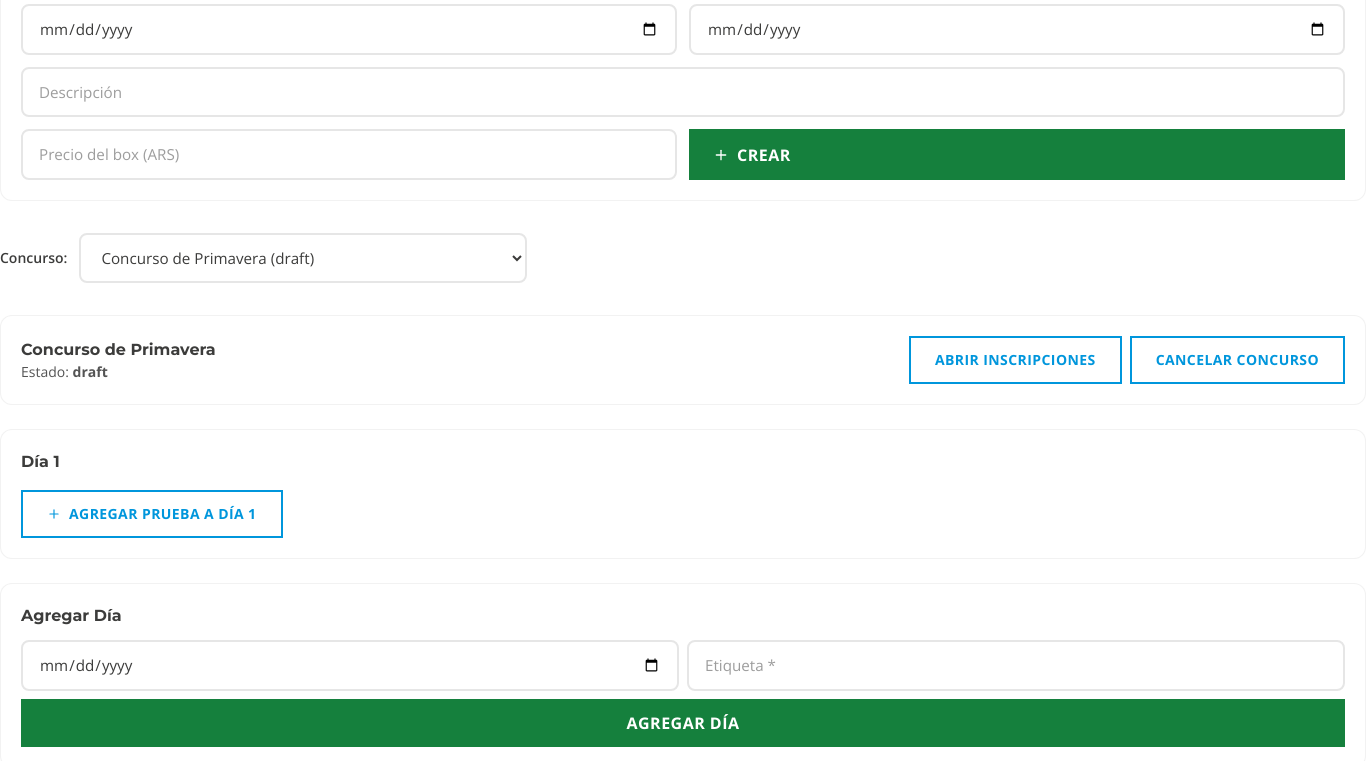
Test: AnteprogramaTab › adds a day to the anteprograma
(page scrolled)
Expected: the heading "Día 1" is shown, x1=21 y1=452 x2=60 y2=471
Type "2026-09-06" into the 3rd date field at [350, 666], box x1=21 y1=640 x2=679 y2=691
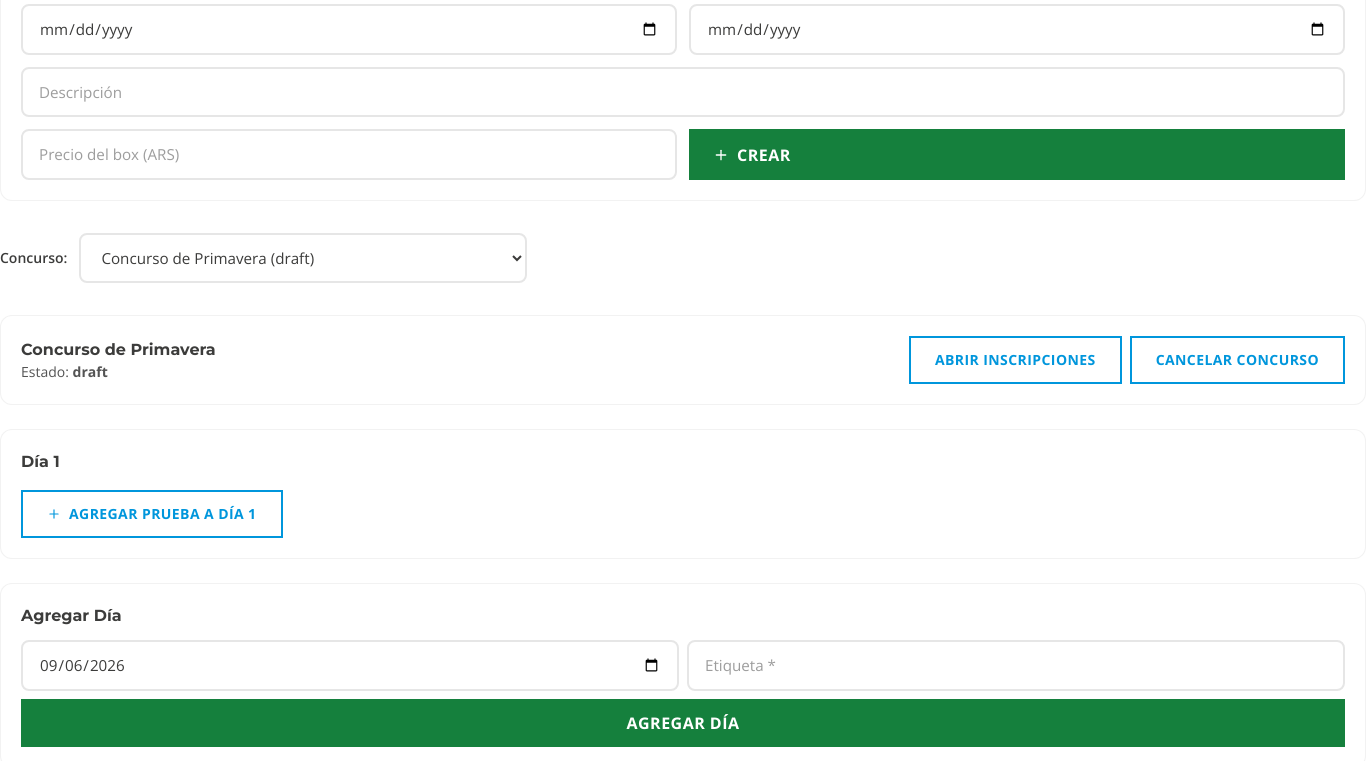
Type "Día 2" into the field with placeholder "Etiqueta *" at [1016, 666], box x1=687 y1=640 x2=1345 y2=691
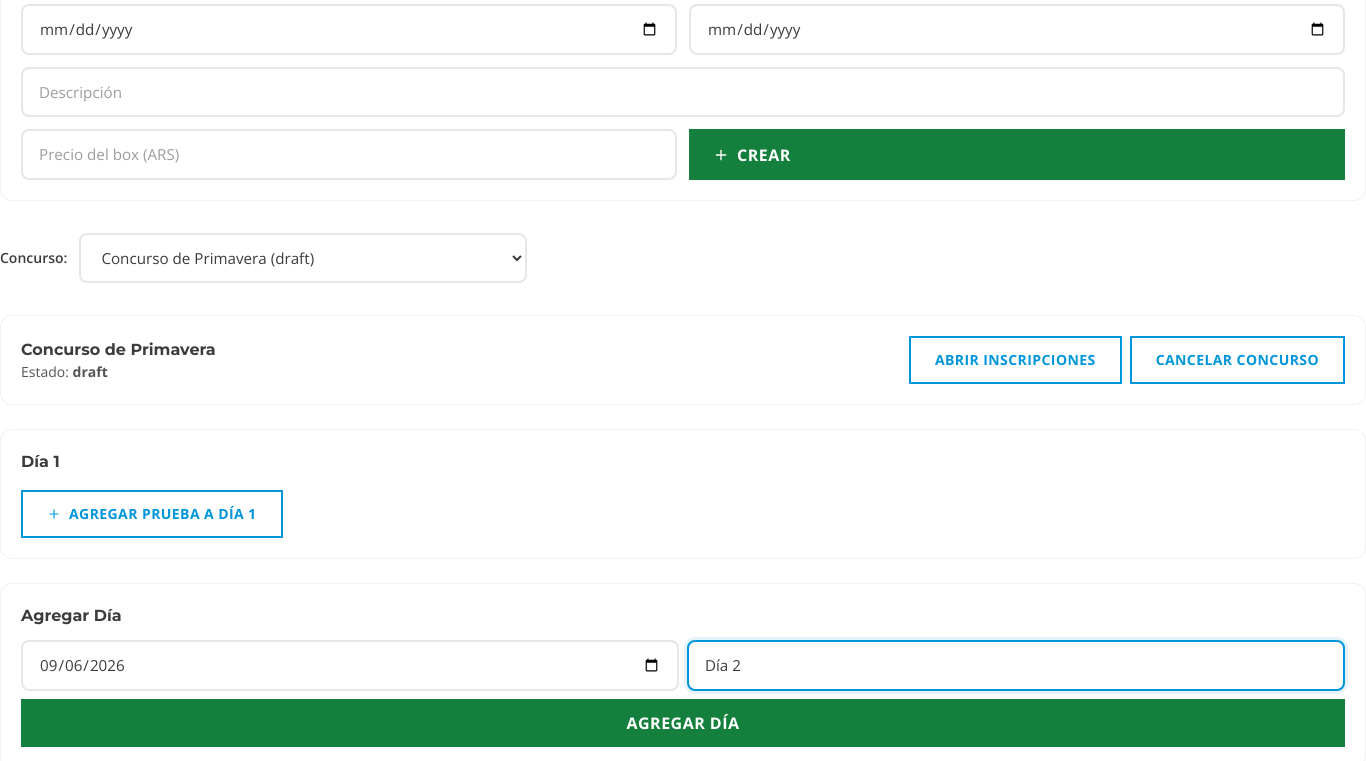
Click the button "Agregar Día" at [683, 723], box x1=21 y1=699 x2=1345 y2=747
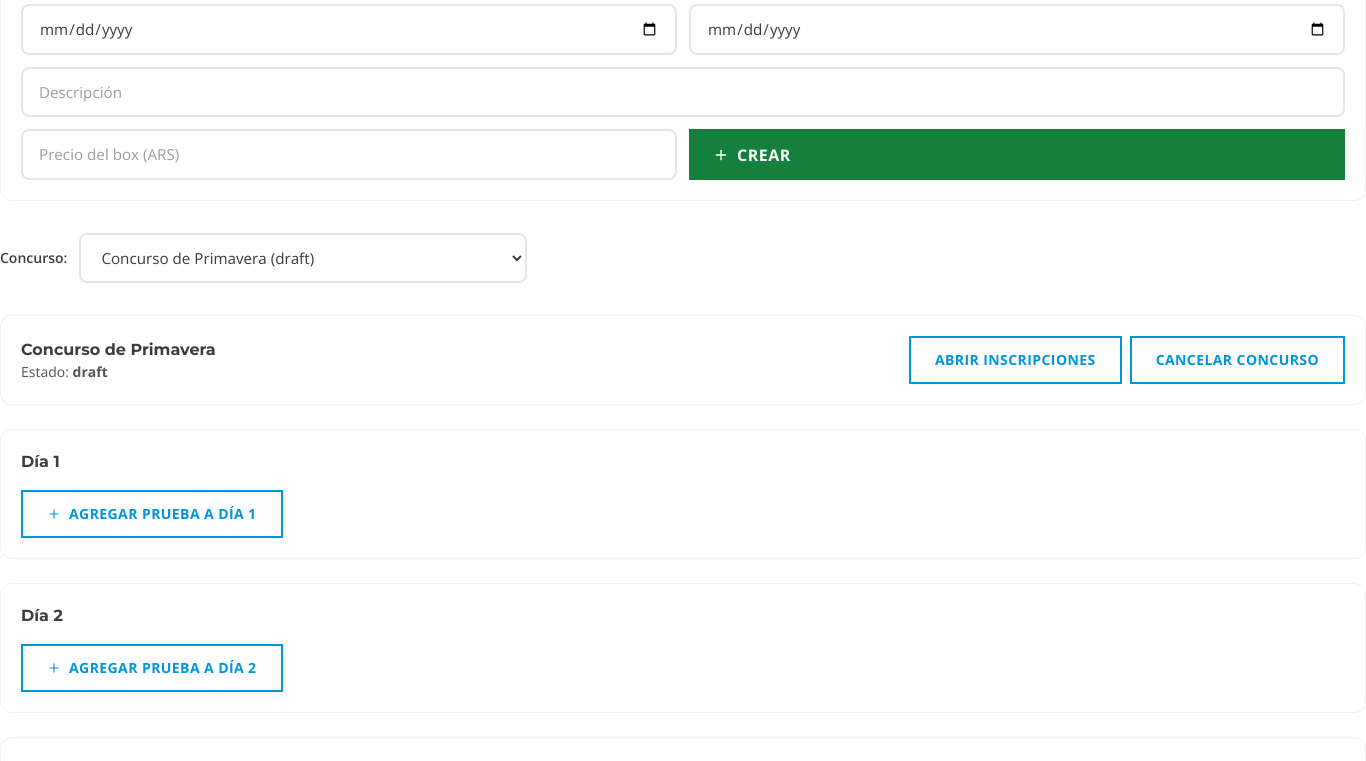
Expected: the heading "Día 2" is shown, x1=21 y1=606 x2=63 y2=625
